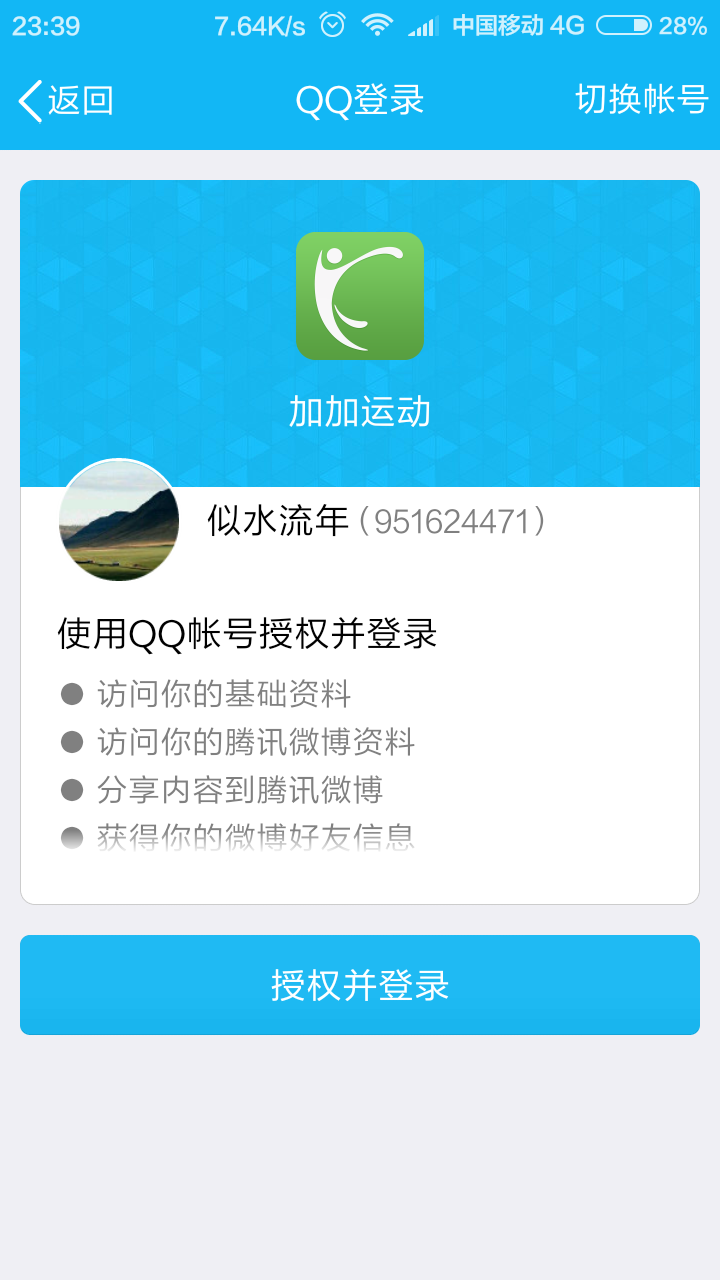button: (17, 930, 708, 1045)
imgview: (289, 229, 431, 367), (50, 450, 187, 588)
textview: (51, 610, 468, 817), (204, 498, 563, 544)
